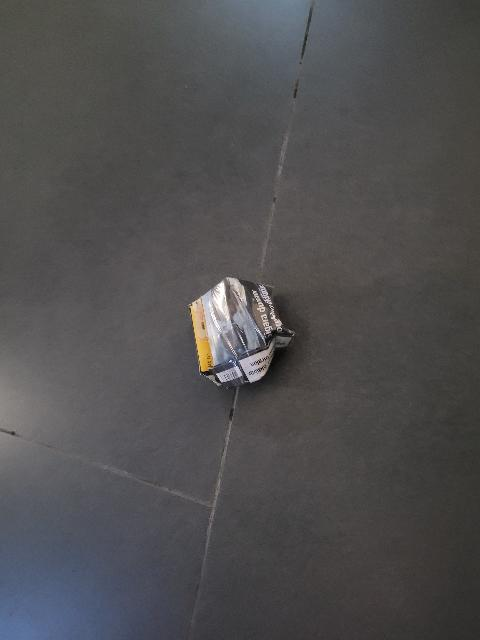Kagit: (177, 273, 306, 398)
